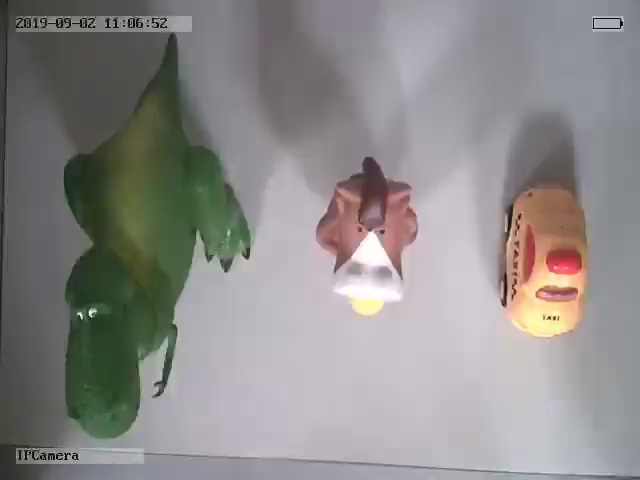car: (501, 184, 592, 336)
horse: (315, 156, 419, 315)
rex: (63, 57, 250, 440)
